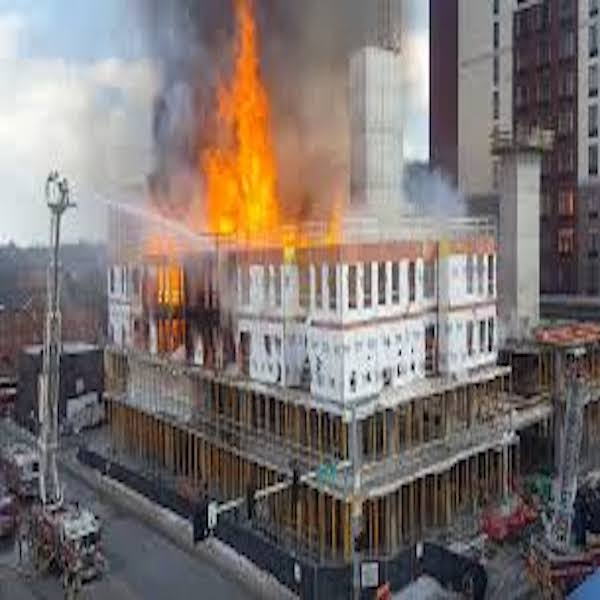fire: (189, 3, 301, 234), (159, 249, 183, 349)
